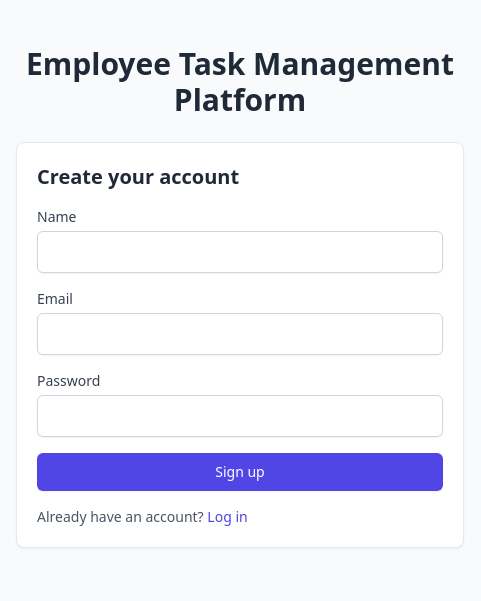
Test: SignUpPage › shows a message for each empty field and sends nothing
Click the button "Sign up" at (240, 472), box [37,453,443,491]
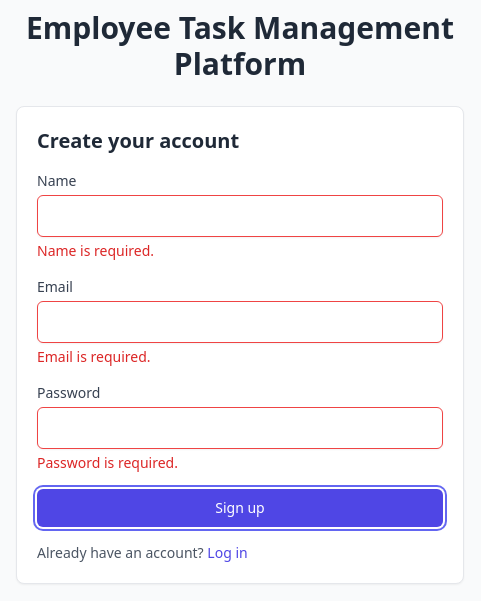
Expected: the text "Name is required." is shown, [37,241,154,260]
Expected: the text "Email is required." is shown, [37,347,151,366]
Expected: the text "Password is required." is shown, [37,453,178,472]
